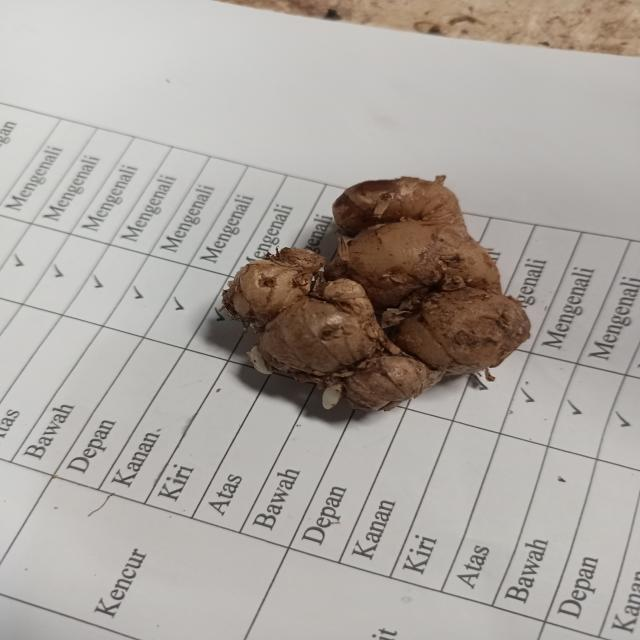ginger: (234, 176, 530, 404)
